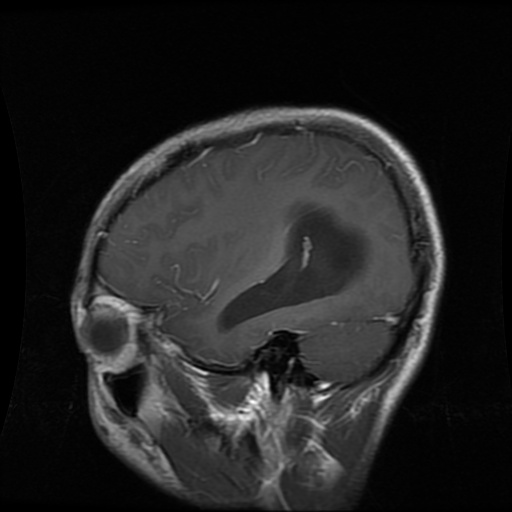glioma: (219, 202, 370, 332)
